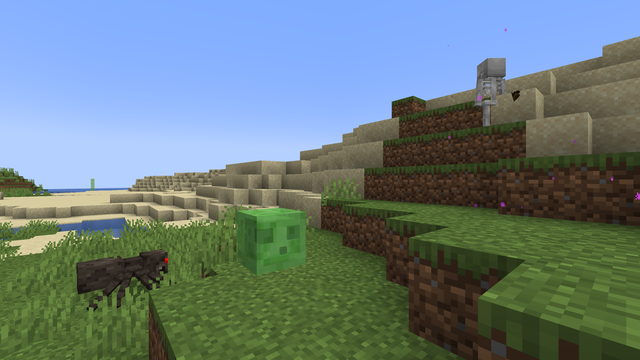araignees: (91, 242, 171, 311)
slimes: (234, 205, 307, 275)
squelettes: (475, 55, 506, 117)
